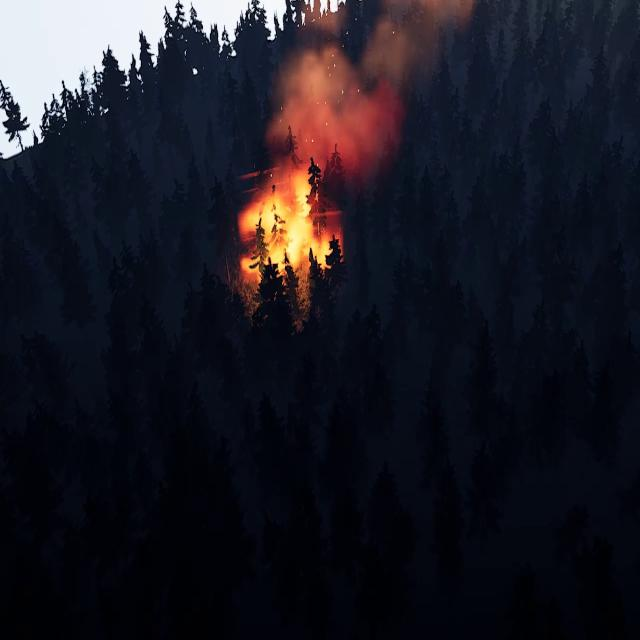fire: (240, 167, 343, 278)
smoke: (266, 0, 474, 180)
